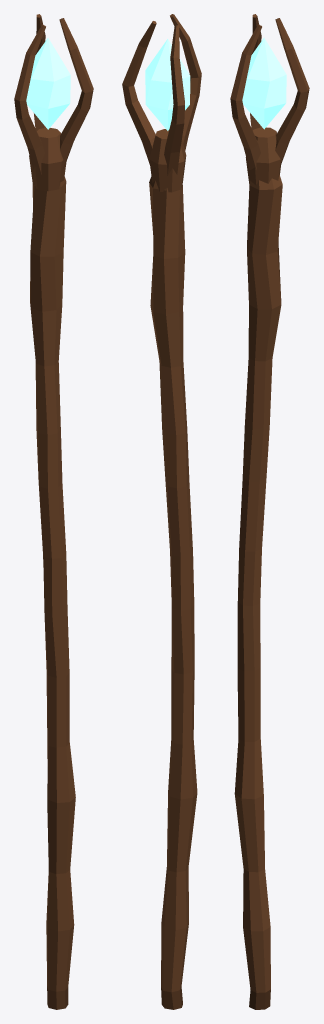
Rendered from W2_MageStaff.fbx.
3 renders of one model, left to right at view 1: azimuth 90°, elevation 25°; view 2: azimuth 150°, elevation 25°; view 3: azimuth 330°, elevation 25°, orthographic.
Parts seen in each view (by area): view 1: W2_MageStaff; view 2: W2_MageStaff; view 3: W2_MageStaff.
Part boxes in pixels (x1=…): W2_MageStaff: x1=14, y1=14, x2=93, y2=1009; W2_MageStaff: x1=122, y1=14, x2=201, y2=1009; W2_MageStaff: x1=230, y1=14, x2=309, y2=1009.
Size of the model in its own units: 12.73 by 171 by 12.47.
